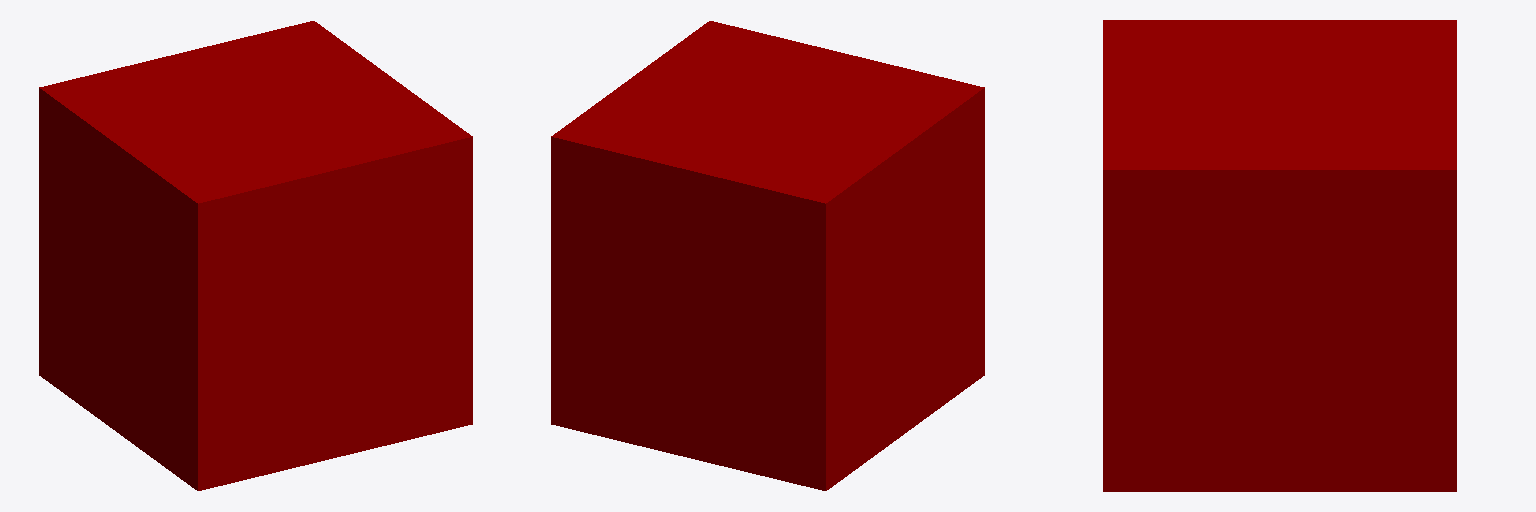
robot.urdf — box_035:
<robot
  name="box_035">
  <link name="box_035">
    <inertial>
      <origin xyz="0.0 0.0 0.0" rpy="0 0 0"/>
      <mass value="0.5"/>
      <inertia ixx="1" ixy="0.0" ixz="0.0" iyy="1" iyz="0.0" izz="1" />
    </inertial>

    <visual>
      <geometry>
        <mesh filename="../meshes/box_035.dae" scale="1 1 1" />
      </geometry>
     </visual>


    <collision>
      <geometry>
        <mesh filename="../meshes/box_035.dae" scale="1 1 1" />
      </geometry>
    </collision>

  </link>
</robot>

--- What the picture shows (computed from the rendered views, not written in the file) ---
The picture shows the robot from 3 angles, left to right: view 1: azimuth 30°, elevation 25°; view 2: azimuth 150°, elevation 25°; view 3: azimuth 270°, elevation 25°; orthographic projection.
Model box_035 with 1 links and 0 joints (none), rooted at box_035, posed every joint at zero.
Links seen in each view (by area): view 1: box_035; view 2: box_035; view 3: box_035.
Link boxes in pixels (x1=…): box_035: x1=39, y1=21, x2=472, y2=490; box_035: x1=551, y1=21, x2=984, y2=490; box_035: x1=1103, y1=20, x2=1456, y2=491.
Bounding box of the posed robot: 0.35 × 0.35 × 0.35 m (x, y, z).
Meshes: 1 distinct files referenced, 1 mesh visuals loaded (1 Collada DAE).